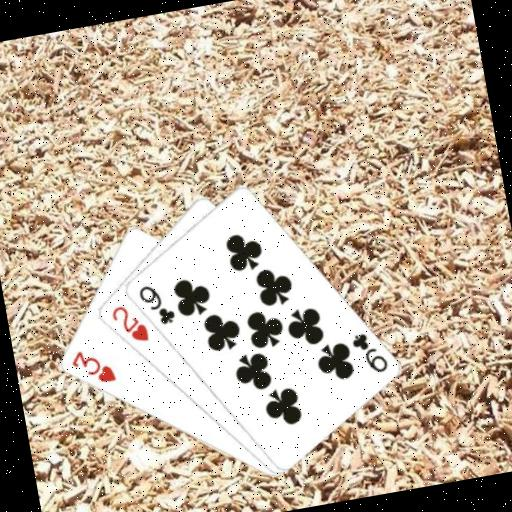2H: (106, 298, 151, 348)
3H: (66, 342, 118, 390)
9C: (134, 278, 178, 330), (346, 326, 390, 378)
